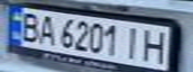0: (87, 20, 106, 55)
1: (100, 22, 121, 56)
2: (69, 18, 90, 52)
6: (54, 16, 75, 51)
A: (33, 12, 57, 46)
B: (15, 9, 42, 43)
H: (139, 27, 172, 64)
I: (121, 25, 145, 61)
